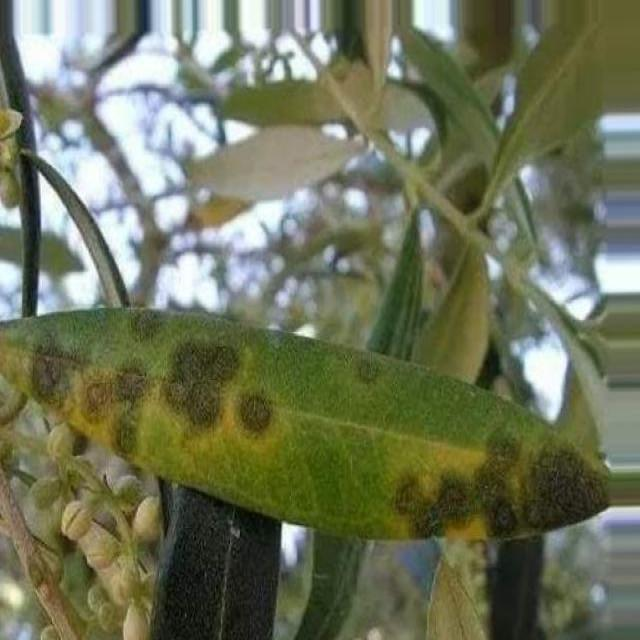Peacock Eye: (0, 307, 608, 540)
